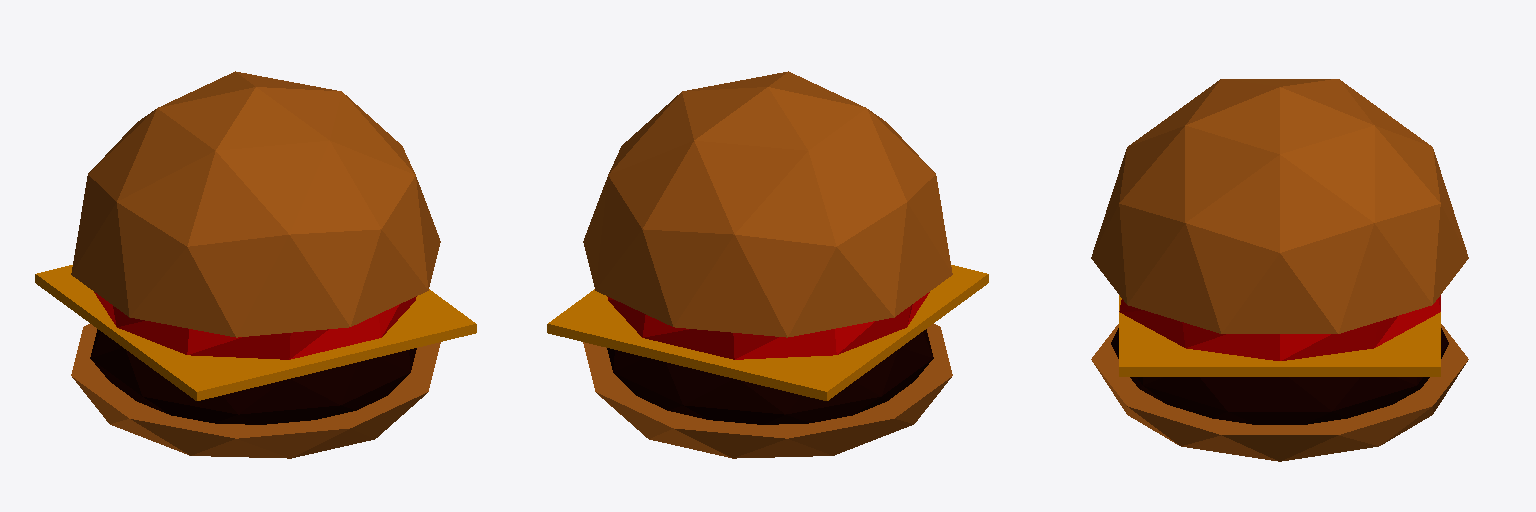
The model's file is burger.obj.
The picture shows the model from 3 angles: view 1: azimuth 30°, elevation 25°; view 2: azimuth 150°, elevation 25°; view 3: azimuth 270°, elevation 25°; orthographic projection.
Parts seen in each view (by area): view 1: bread_bottom_Icosphere.001; view 2: bread_bottom_Icosphere.001; view 3: bread_bottom_Icosphere.001.
Boxes of the visible parts, x1=… form: bread_bottom_Icosphere.001: x1=35, y1=71, x2=476, y2=458; bread_bottom_Icosphere.001: x1=547, y1=71, x2=988, y2=458; bread_bottom_Icosphere.001: x1=1091, y1=79, x2=1468, y2=461.
Size of the model in its own units: 1.9 by 1.97 by 2.